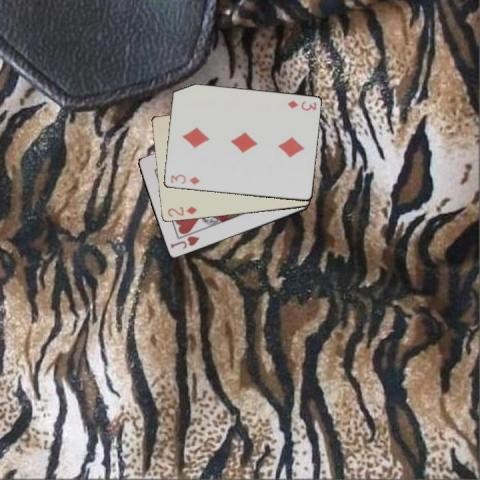2d: (165, 204, 198, 219)
3d: (168, 171, 202, 186), (284, 98, 317, 112)
Jh: (167, 233, 201, 251)
